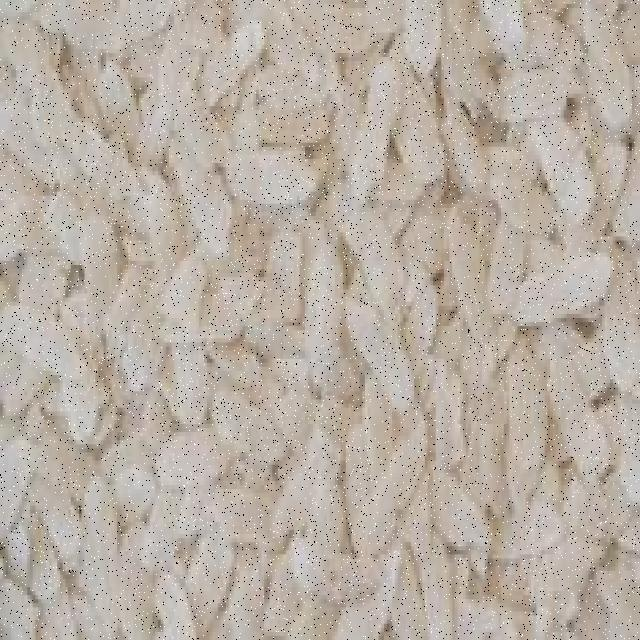Beaten Rice: (63, 77, 548, 530)
